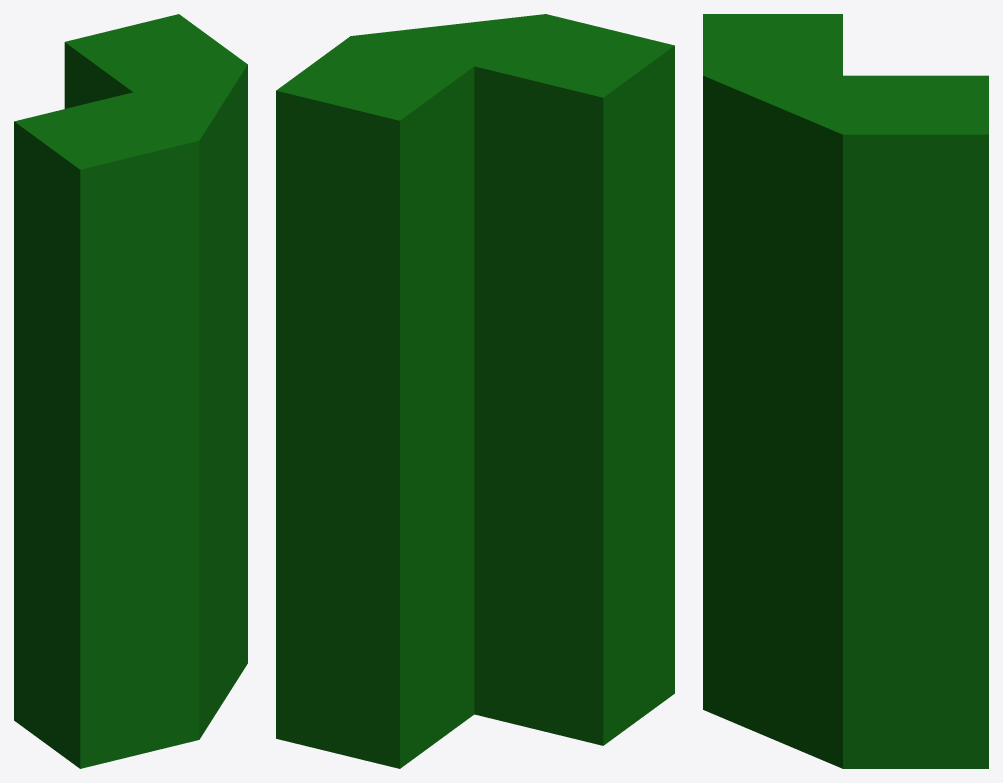
File: kose_lod3.fbx
3 views of the same model, side by side, from view 1: azimuth 30°, elevation 25°; view 2: azimuth 150°, elevation 25°; view 3: azimuth 270°, elevation 25° (orthographic). The views are drawn at different scales.
Parts seen in each view (by area): view 1: Cube.044; view 2: Cube.044; view 3: Cube.044.
Part boxes in pixels (x1,y1,x2,y2): Cube.044: (14,14,247,768); Cube.044: (276,14,674,768); Cube.044: (703,14,988,768).
Size of the model in its own units: 4.08 by 10 by 4.08.
